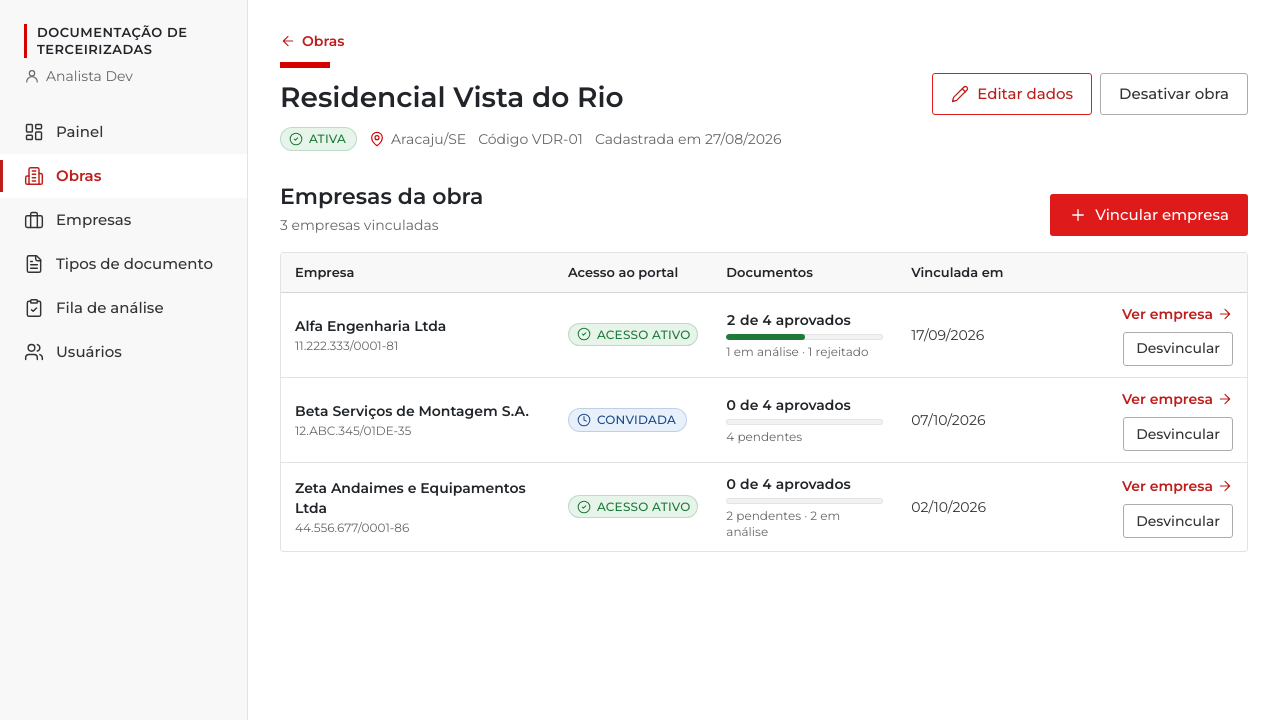
Test case: 403 SEM_PERMISSAO › ao salvar obra
The image size is (1280, 720).
expect the heading "Residencial Vista do Rio" is shown: met, box [280, 80, 624, 114]
Click the button "Editar dados" at (1012, 94), box [932, 73, 1092, 115]
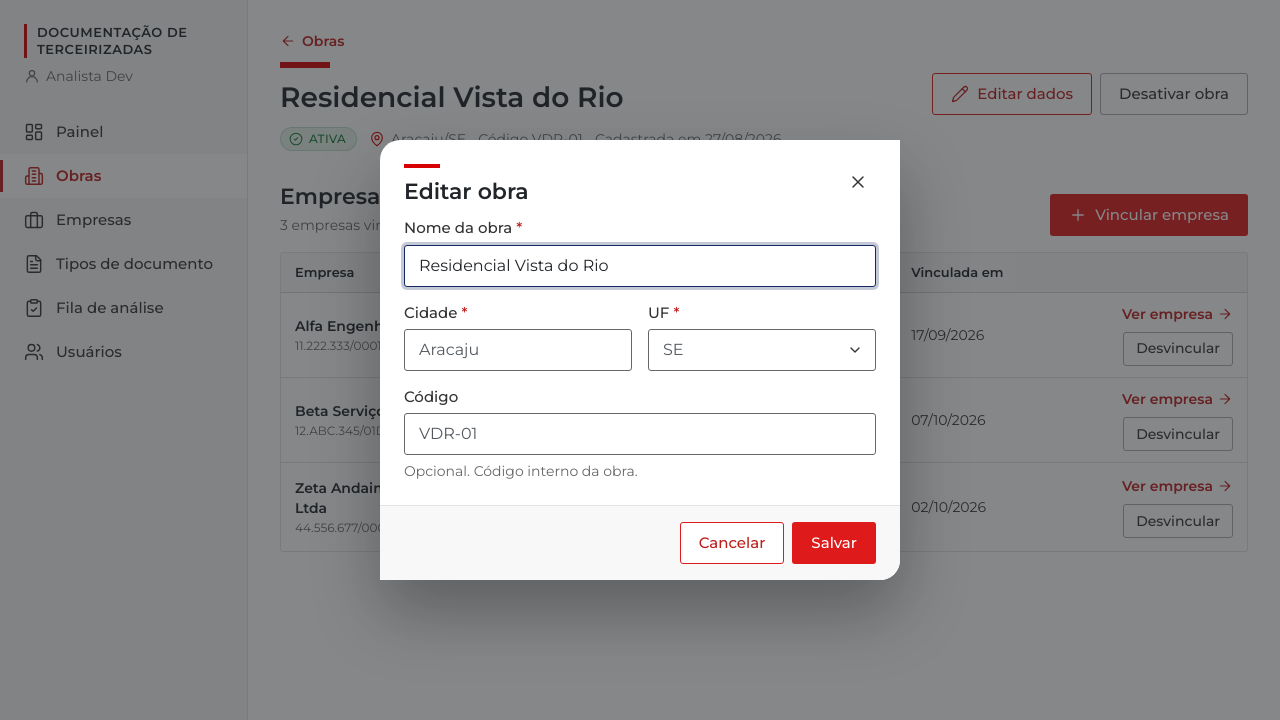
Replace the text in the field labelled "Nome da obra *" with "Outro nome" at (640, 266), box [404, 244, 876, 286]
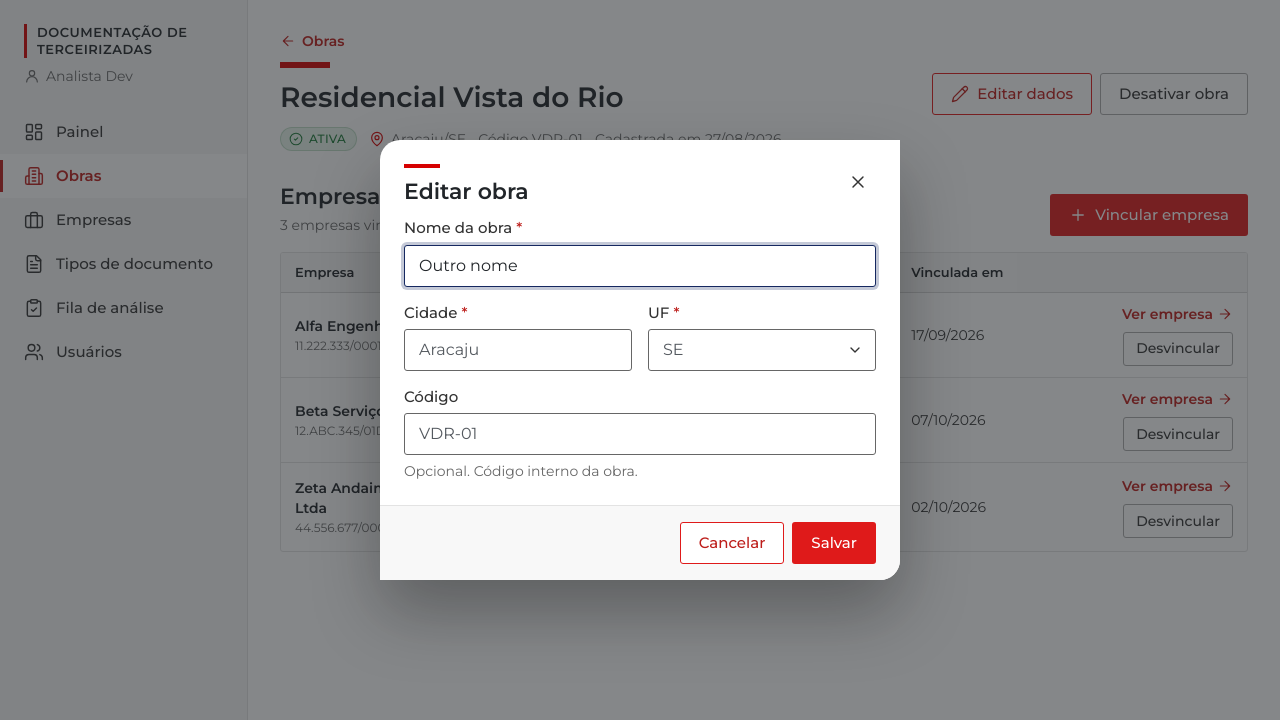
Click the button "Salvar" at (834, 543), box [792, 522, 876, 564]
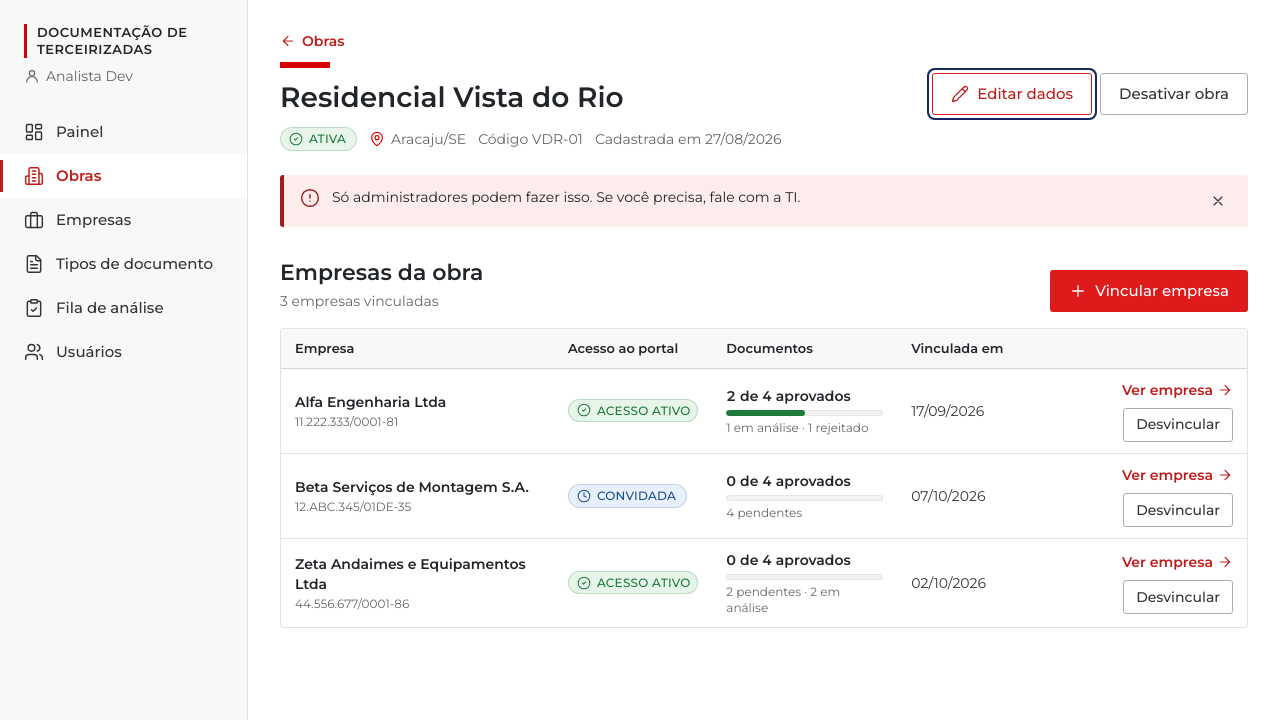
expect the heading "Residencial Vista do Rio" is shown: met, box [280, 80, 624, 114]
expect the message reads "Só administradores podem fazer isso. Se você precisa, fale com a TI.": met, box [332, 188, 800, 206]
expect the dialog is gone: met
